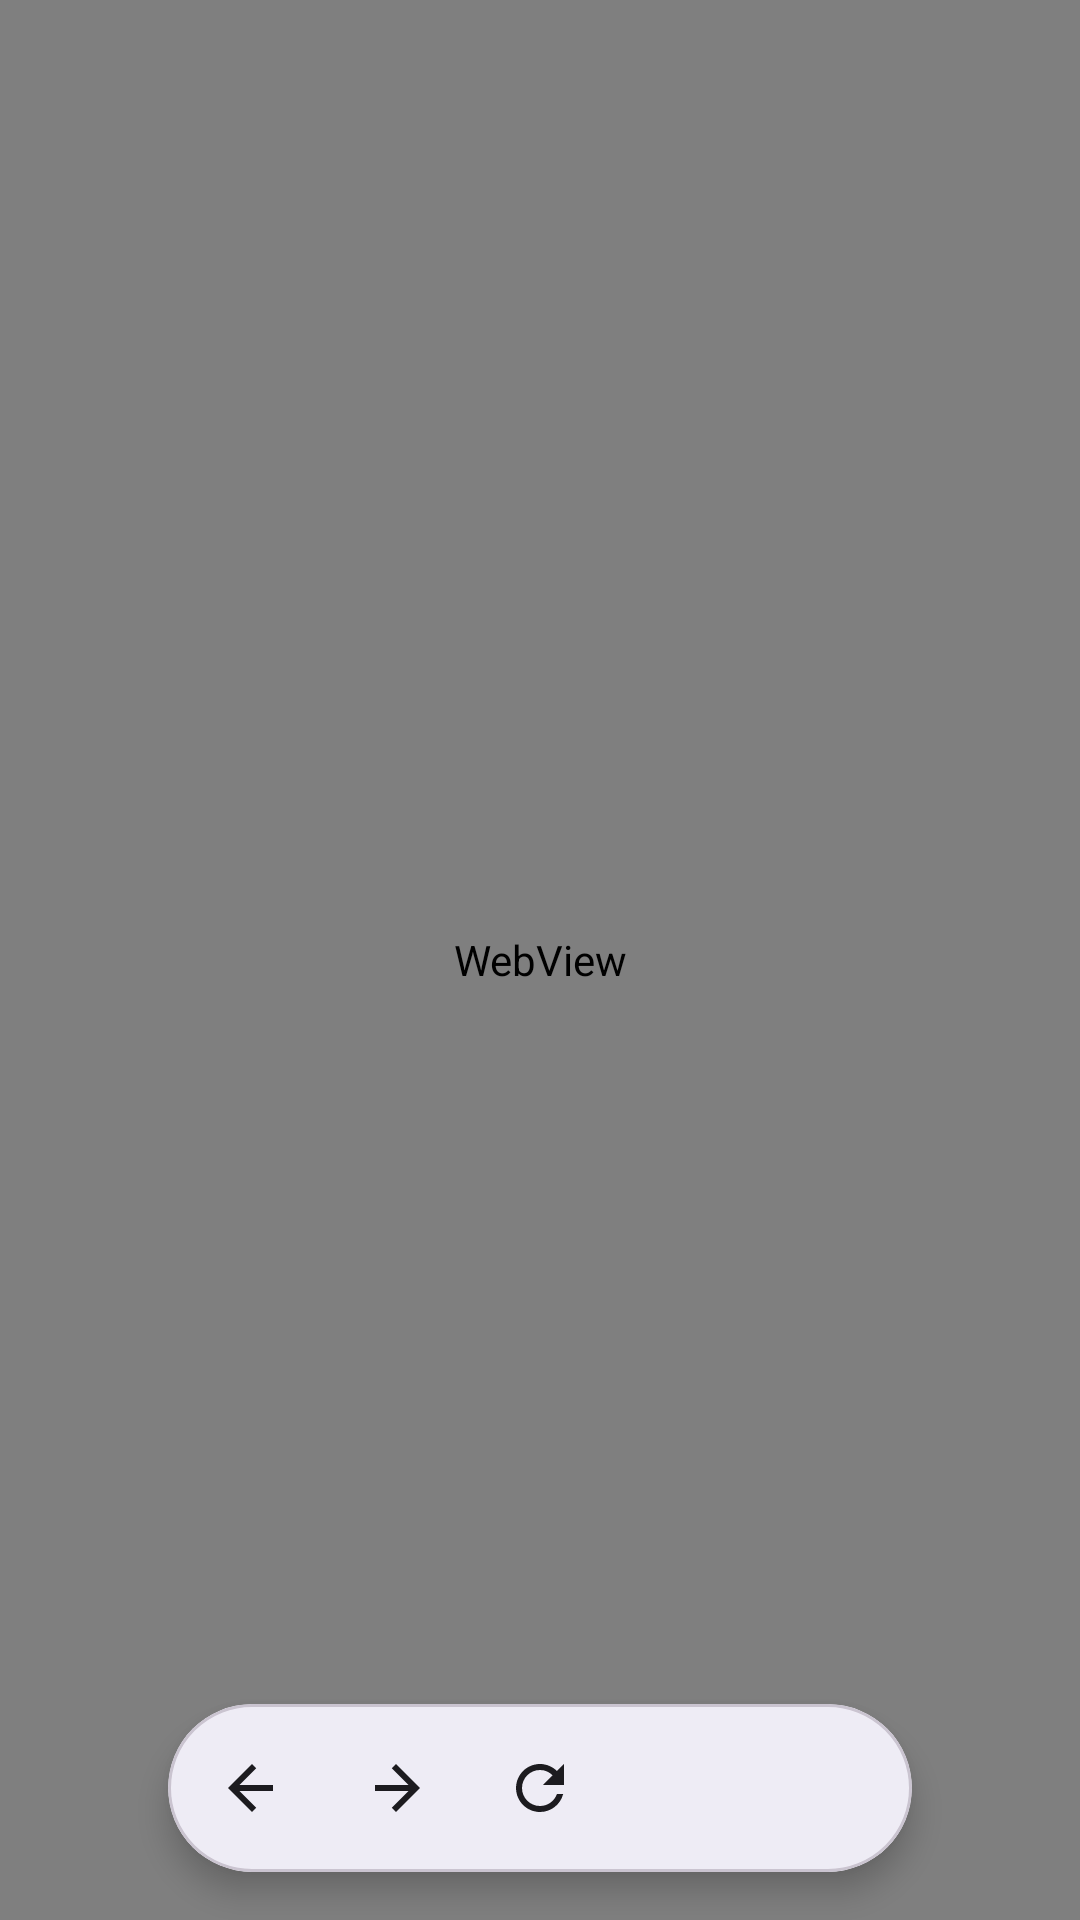

Where to tap for icons on this 1080px x 1920px app screen, as [x,y]:
Back: [226,1788]
Forward: [397,1788]
Refresh: [540,1788]
